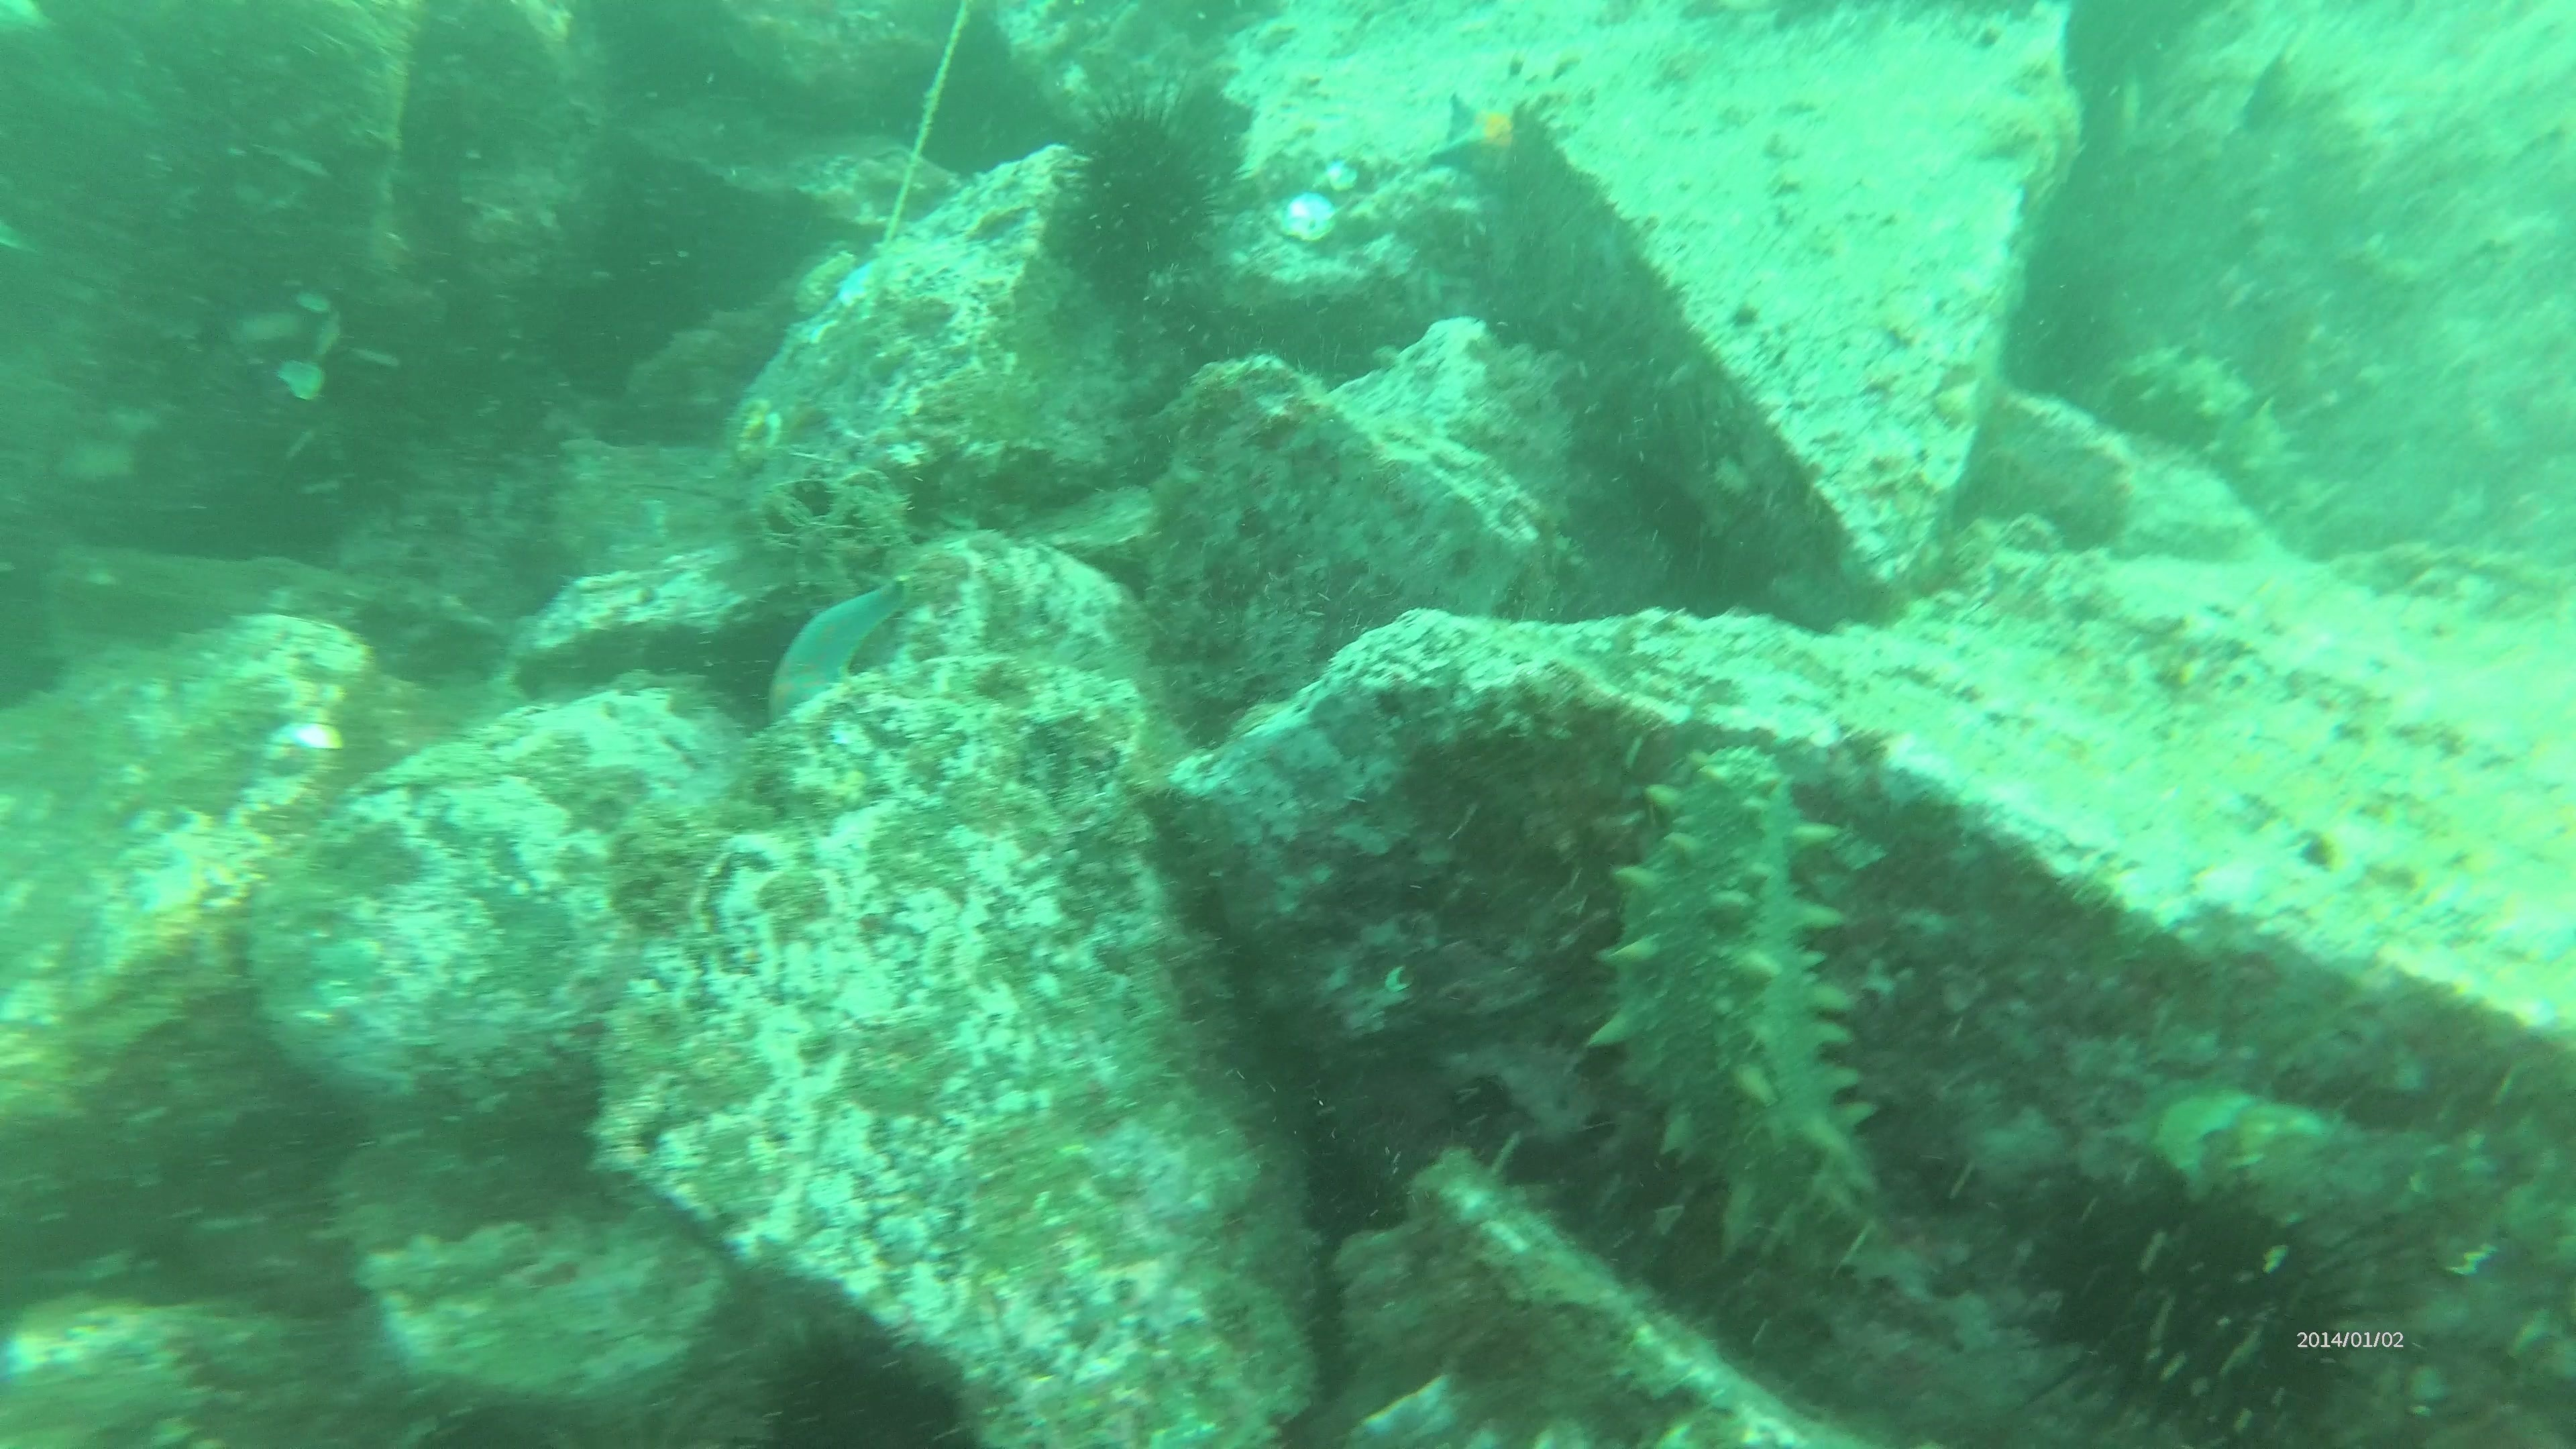echinus: (2010, 1166, 2385, 1440), (1047, 88, 1240, 299), (747, 1320, 977, 1444)
holothurian: (1580, 750, 1884, 1242), (2102, 333, 2330, 534)
starfish: (750, 571, 920, 738), (1426, 81, 1550, 195)
